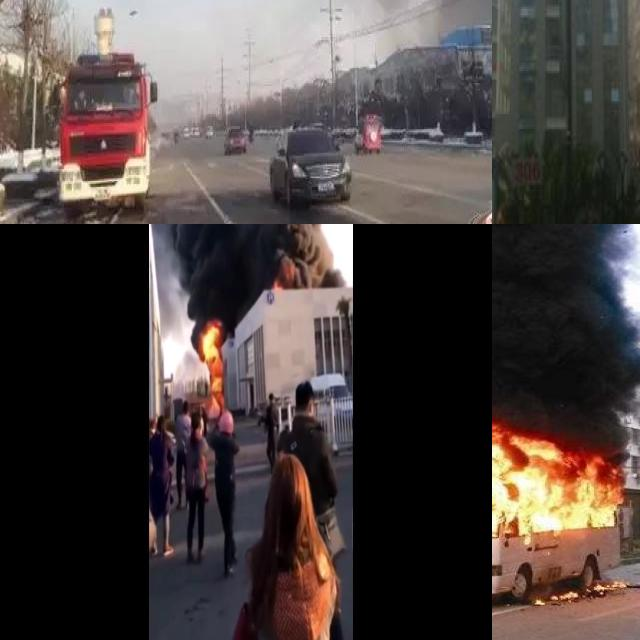fire: (492, 418, 625, 540), (526, 581, 618, 605), (201, 323, 223, 389)
smoke: (492, 224, 640, 434), (146, 224, 344, 327)
